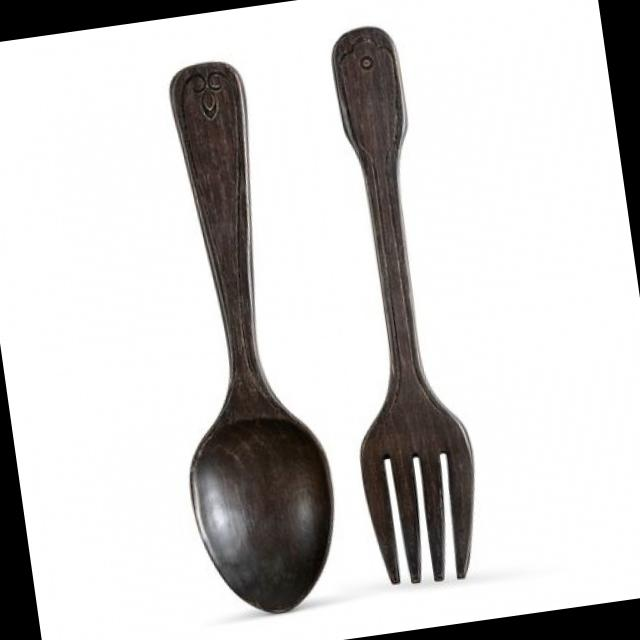fork: (324, 12, 489, 605)
spoon: (159, 55, 348, 628)
